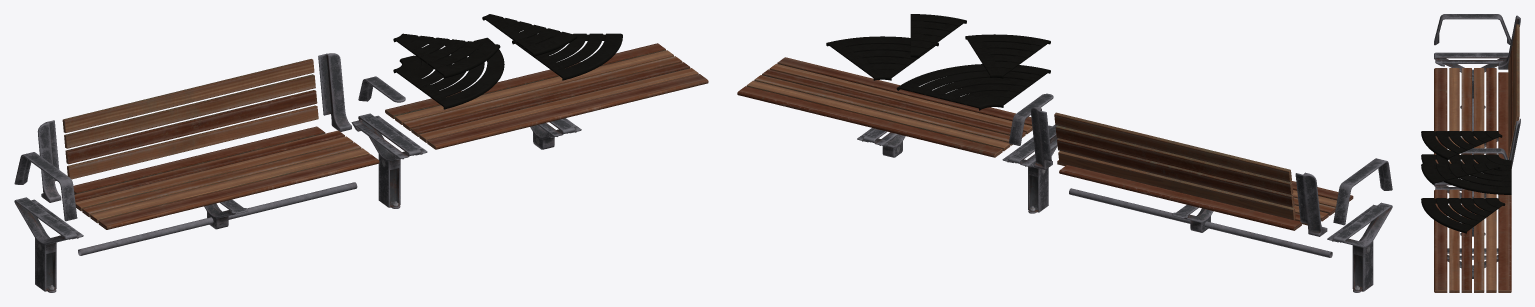
Rendered from modular_street_seating.glb.
The picture shows the model from 3 angles, left to right: view 1: azimuth 30°, elevation 25°; view 2: azimuth 150°, elevation 25°; view 3: azimuth 270°, elevation 25°; orthographic projection. The views are drawn at different scales.
Parts seen in each view (by area): view 1: seat_back, seat, seat_bench, connector_90, legs_double, connector_45, legs_single, connector_60, crossbar, connector_30, back_support_l, arm_rest_01 (+4 smaller); view 2: seat_bench, seat_back, connector_90, seat, connector_60, legs_single, connector_45, crossbar, legs_double, connector_30, arm_rest_01, back_support_r (+4 smaller); view 3: seat_bench, seat, connector_90, connector_60, connector_45, seat_back, connector_30, legs_single, arm_rest_01, arm_rest_02, back_support_r, legs_double (+3 smaller).
Part boxes in pixels (<box>): seat_back: <box>62,59,318,179</box>; seat: <box>73,126,379,229</box>; seat_bench: <box>385,43,708,149</box>; connector_90: <box>393,37,504,109</box>; legs_double: <box>351,113,427,208</box>; connector_45: <box>393,33,500,78</box>; legs_single: <box>14,197,83,292</box>; connector_60: <box>512,33,622,80</box>; crossbar: <box>78,182,357,255</box>; connector_30: <box>482,14,577,56</box>; back_support_l: <box>318,53,351,131</box>; arm_rest_01: <box>14,152,77,221</box>; seat_bench: <box>737,57,1032,157</box>; seat_back: <box>1054,112,1295,220</box>; connector_90: <box>896,64,1050,110</box>; seat: <box>1057,160,1353,230</box>; connector_60: <box>826,36,938,80</box>; legs_single: <box>1327,202,1392,292</box>; connector_45: <box>965,34,1050,78</box>; crossbar: <box>1069,188,1332,257</box>; legs_double: <box>1002,124,1058,213</box>; connector_30: <box>910,14,966,57</box>; arm_rest_01: <box>1333,158,1392,225</box>; back_support_r: <box>1295,172,1327,236</box>; seat_bench: <box>1434,189,1511,292</box>; seat: <box>1434,68,1508,163</box>; connector_90: <box>1421,154,1511,194</box>; connector_60: <box>1421,198,1505,233</box>; connector_45: <box>1421,131,1502,160</box>; seat_back: <box>1508,24,1519,157</box>; connector_30: <box>1421,163,1500,185</box>; legs_single: <box>1434,52,1508,108</box>; arm_rest_01: <box>1434,14,1511,45</box>; arm_rest_02: <box>1461,148,1508,159</box>; back_support_r: <box>1498,15,1520,69</box>; legs_double: <box>1434,181,1486,236</box>.
Size of the model in its own units: 4.34 by 0.95 by 0.7704.
5 materials, 5 textured.
